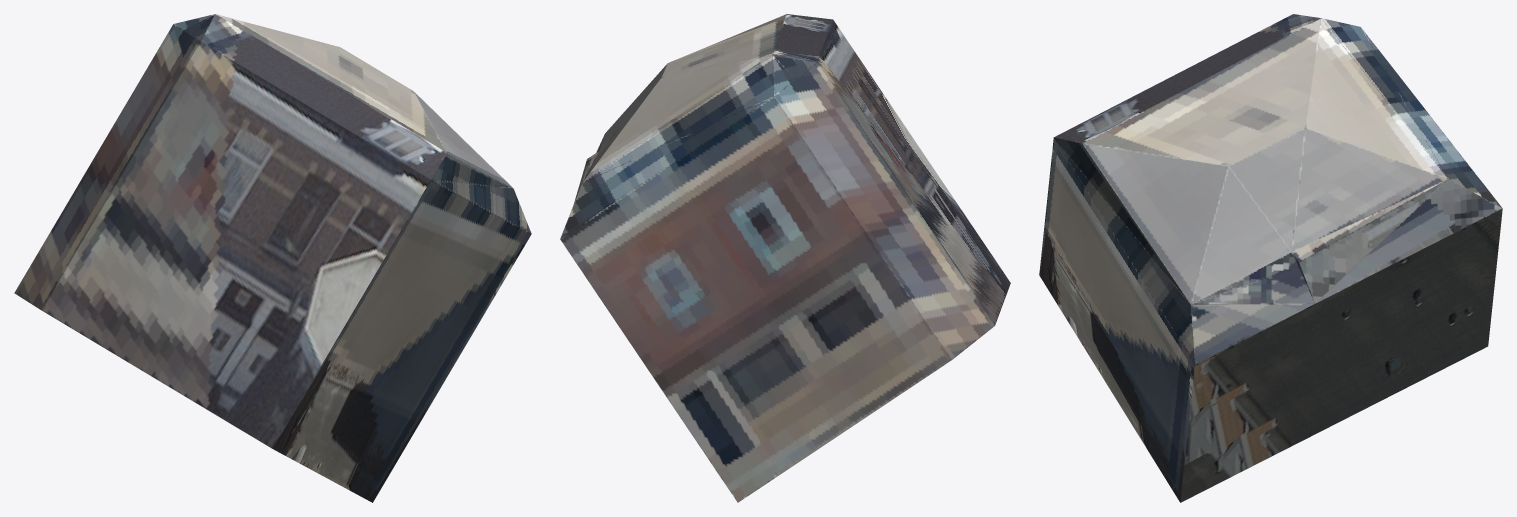
3 renders of one model, left to right at view 1: azimuth 30°, elevation 25°; view 2: azimuth 150°, elevation 25°; view 3: azimuth 270°, elevation 25°, orthographic. The views are drawn at different scales.
Parts seen in each view (by area): view 1: BAG_0599100000650084 (×4); view 2: BAG_0599100000650084 (×5); view 3: BAG_0599100000650084 (×5).
Boxes of the visible parts, x1,y1,x2,y2 form: BAG_0599100000650084 (×4): (14, 14, 531, 502); BAG_0599100000650084 (×5): (560, 14, 1010, 502); BAG_0599100000650084 (×5): (1039, 14, 1502, 502).
Size of the model in its own units: 14.55 by 14.2 by 13.43.
1 material, 1 textured.
